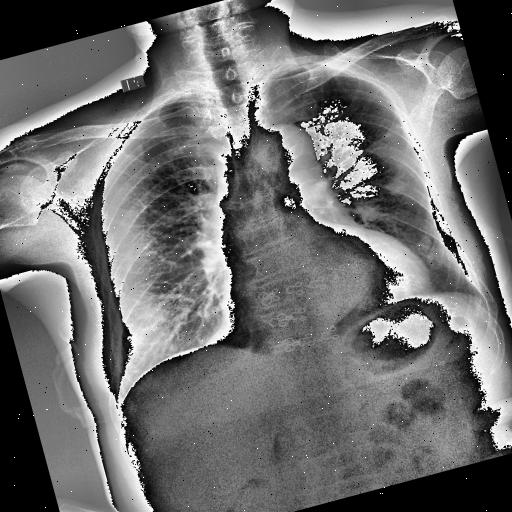0- Aortic enlargement: (247, 112, 329, 199), (250, 118, 322, 184), (255, 118, 318, 174)
10- Pleural effusion: (466, 280, 488, 310)
11- Pleural thickening: (466, 280, 488, 310)
13- Pulmonary fibrosis: (366, 124, 406, 154)
3- Cardiomegaly: (201, 234, 435, 352), (214, 226, 434, 344)
